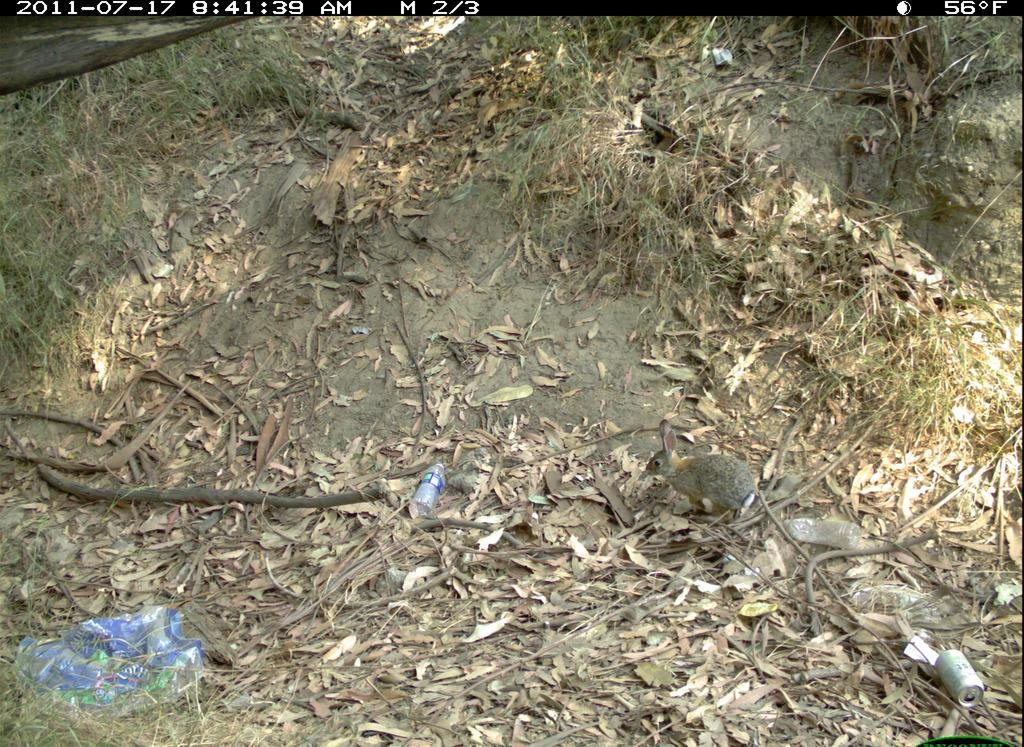rabbit: (637, 414, 774, 521)
